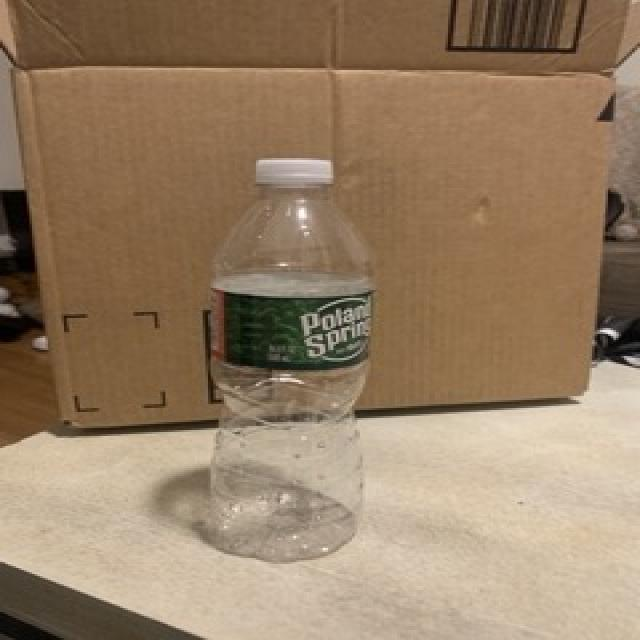water_bottle: (202, 155, 376, 561)
